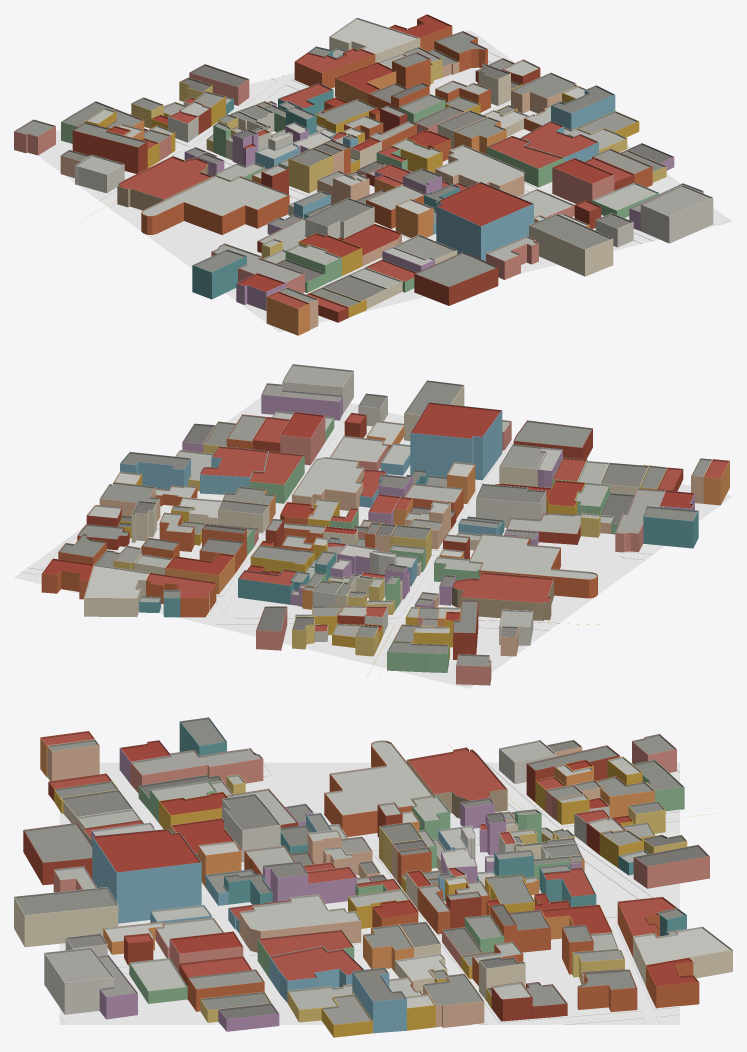
3 renders of one model, top to bottom at view 1: azimuth 30°, elevation 25°; view 2: azimuth 150°, elevation 25°; view 3: azimuth 270°, elevation 25°, orthographic. The views are drawn at different scales.
Parts seen in each view (by area): view 1: roofs, walls, plaza, asphalt, sidewalk; view 2: roofs, walls, plaza, asphalt, sidewalk; view 3: roofs, walls, plaza, asphalt, sidewalk, pavers.
Boxes of the visible parts, left/top/right/bottom form: roofs: left=14, top=14, right=712, bottom=312; walls: left=14, top=19, right=713, bottom=335; plaza: left=37, top=30, right=728, bottom=332; asphalt: left=100, top=52, right=732, bottom=243; sidewalk: left=97, top=34, right=730, bottom=278; roofs: left=42, top=364, right=729, bottom=666; walls: left=41, top=371, right=729, bottom=685; plaza: left=14, top=397, right=732, bottom=684; asphalt: left=34, top=405, right=652, bottom=688; sidewalk: left=21, top=404, right=654, bottom=685; roofs: left=14, top=717, right=732, bottom=1024; walls: left=14, top=722, right=732, bottom=1037; plaza: left=59, top=762, right=679, bottom=1024; asphalt: left=59, top=762, right=679, bottom=1024; sidewalk: left=59, top=762, right=679, bottom=1024; pavers: left=99, top=762, right=659, bottom=1024.
Size of what is drawn, in the model's own units: 284 by 22.75 by 290.
